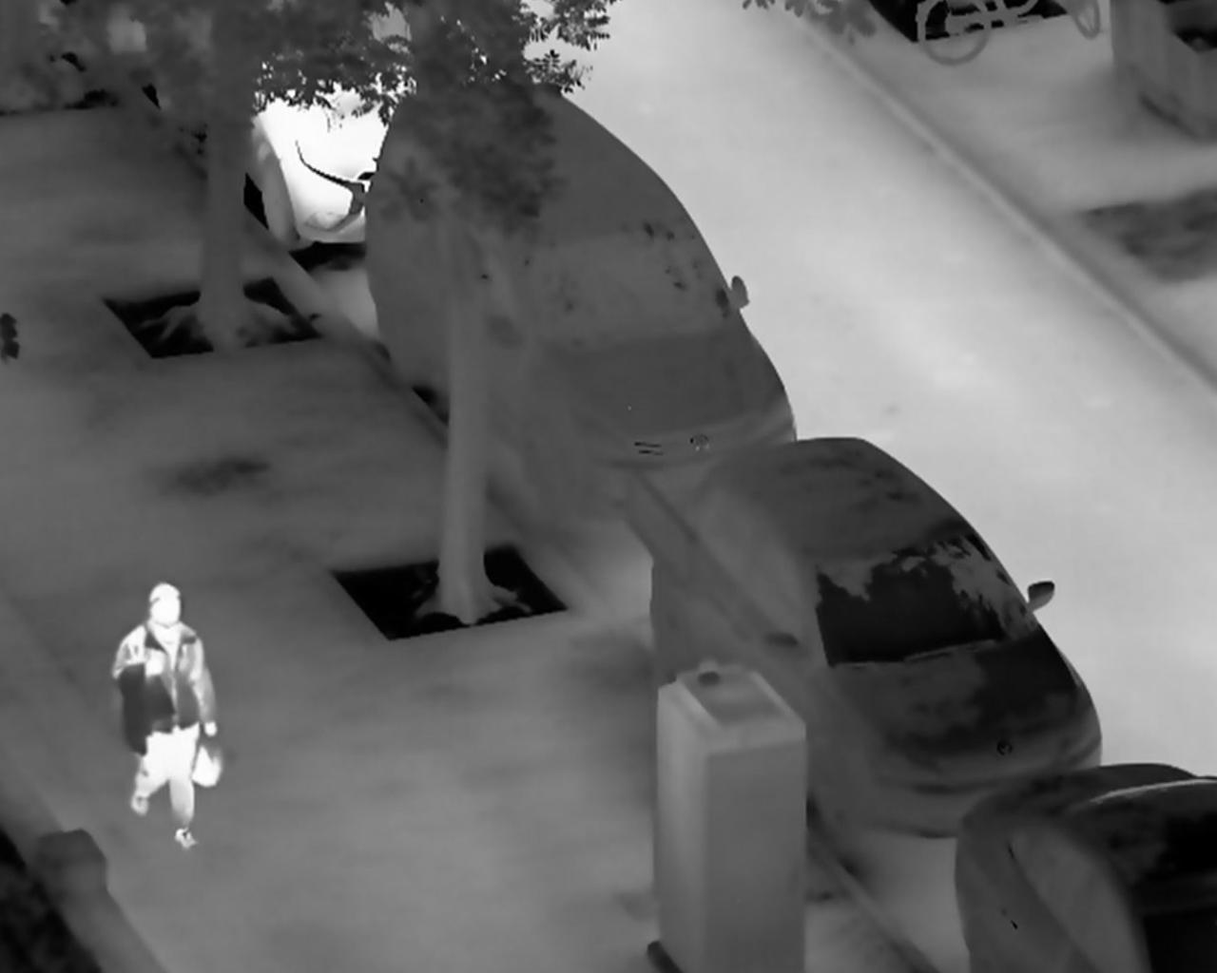person: (106, 578, 227, 851)
